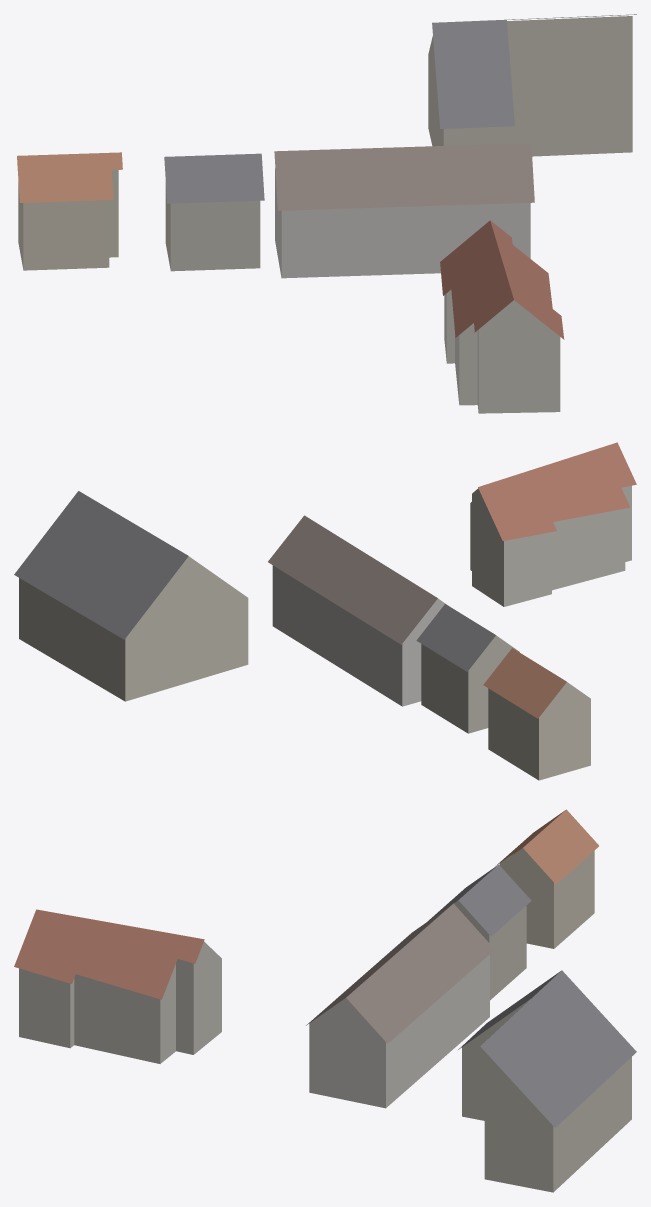
3 views of the same model, one above another, from view 1: azimuth 30°, elevation 25°; view 2: azimuth 150°, elevation 25°; view 3: azimuth 270°, elevation 25° (orthographic). The views are drawn at different scales.
Parts seen in each view (by area): view 1: buildings; view 2: buildings; view 3: buildings.
Boxes of the visible parts, x1=… form: buildings: x1=17, y1=14, x2=636, y2=413; buildings: x1=14, y1=442, x2=636, y2=780; buildings: x1=14, y1=809, x2=636, y2=1192.
Size of the model in its own units: 54.64 by 12.19 by 49.46.
